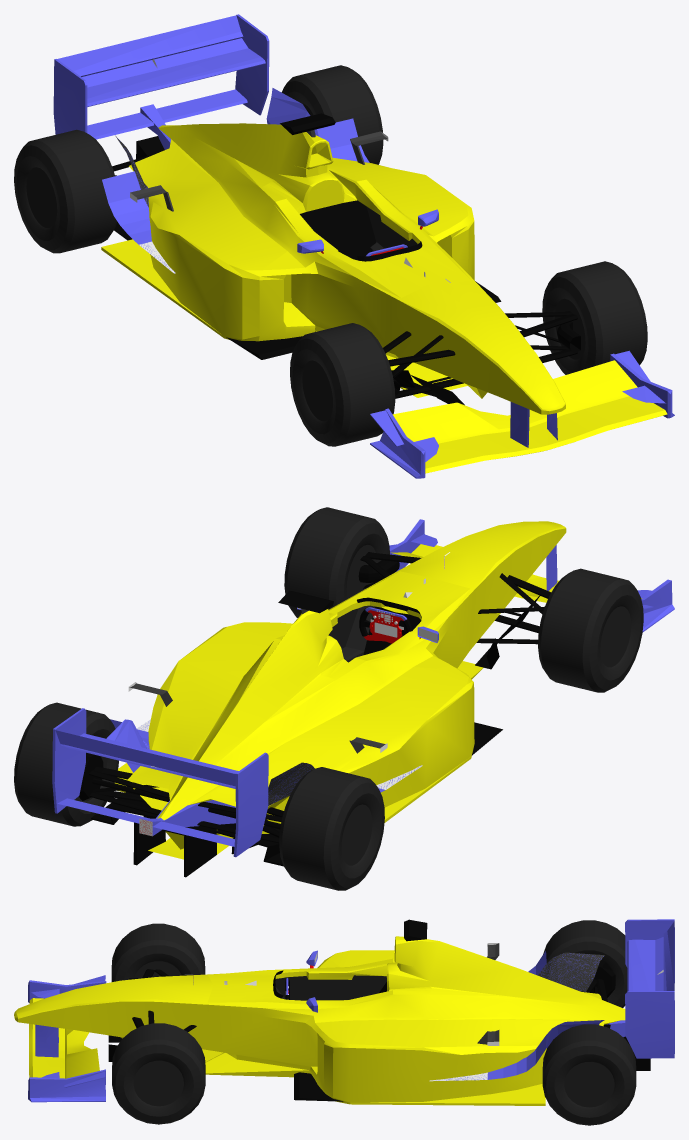
3 views of the same model, one above another, from view 1: azimuth 30°, elevation 25°; view 2: azimuth 150°, elevation 25°; view 3: azimuth 270°, elevation 25° (orthographic). The views are drawn at different scales.
Visible parts, largest first — view 1: SketchUp (×25); view 2: SketchUp (×28); view 3: SketchUp (×21).
Boxes of the visible parts, box(x1,y1,x2,y2) form: SketchUp (×25): box(14, 14, 674, 478); SketchUp (×28): box(14, 507, 674, 890); SketchUp (×21): box(14, 919, 674, 1125).
Size of the model in its own units: 15.81 by 34.99 by 8.07.
